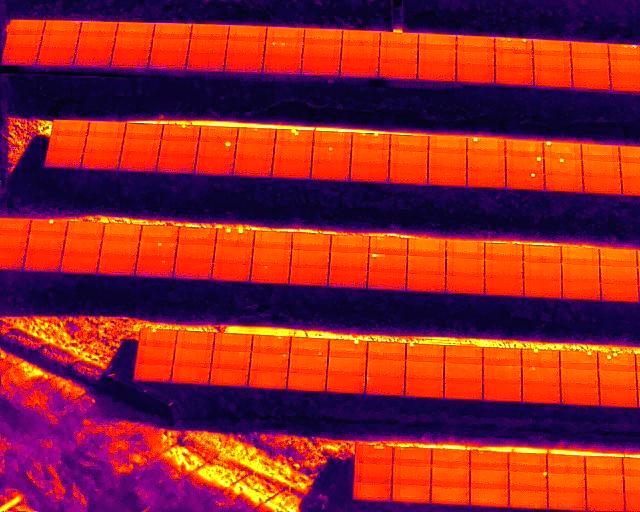Cell: (509, 471, 547, 490), (407, 343, 444, 362), (467, 137, 505, 155), (521, 350, 559, 368), (252, 264, 289, 282), (137, 258, 173, 276), (251, 352, 289, 369), (505, 156, 543, 173), (329, 340, 367, 357), (252, 335, 290, 352), (522, 368, 559, 385), (544, 142, 581, 159), (506, 172, 543, 189), (292, 339, 328, 356), (313, 147, 351, 163), (163, 125, 198, 142), (560, 352, 597, 368), (544, 159, 581, 175), (140, 330, 177, 346), (369, 254, 406, 270), (239, 128, 275, 144), (199, 142, 234, 158), (31, 219, 65, 235)
Cell-Multi: (599, 352, 636, 369), (138, 242, 175, 259), (217, 230, 253, 247), (495, 37, 532, 53), (352, 134, 389, 150), (277, 130, 313, 146), (266, 43, 301, 59), (609, 43, 640, 61)
No-Anomaly: (444, 345, 482, 365), (327, 373, 365, 392), (586, 475, 624, 494), (432, 449, 470, 468), (547, 492, 585, 511), (405, 378, 443, 397), (561, 387, 600, 405), (391, 484, 430, 502), (559, 369, 598, 387), (329, 269, 368, 287), (444, 380, 482, 398), (392, 466, 430, 484), (522, 385, 560, 403), (548, 473, 586, 491), (469, 470, 507, 488), (431, 468, 469, 486), (509, 491, 547, 509), (353, 482, 391, 500), (599, 387, 637, 405), (509, 453, 547, 471), (532, 39, 570, 57), (505, 139, 543, 157), (544, 175, 582, 193), (598, 370, 636, 388), (483, 383, 521, 401), (212, 263, 250, 281), (175, 261, 211, 280), (483, 347, 521, 365), (136, 345, 174, 363), (368, 271, 406, 289), (304, 27, 342, 45), (485, 276, 523, 294), (173, 365, 210, 383), (585, 457, 622, 475), (548, 454, 585, 472), (393, 447, 430, 465), (350, 165, 387, 183), (457, 66, 494, 84), (25, 251, 60, 270), (586, 494, 625, 511), (366, 376, 405, 393), (99, 258, 135, 276), (483, 366, 521, 383), (133, 363, 171, 380), (289, 355, 327, 372), (288, 372, 326, 389), (456, 35, 494, 52), (470, 452, 508, 469), (581, 143, 619, 160), (431, 486, 469, 503), (341, 46, 379, 63), (470, 489, 508, 506), (583, 177, 621, 194), (445, 364, 483, 381), (210, 368, 248, 385), (174, 349, 212, 366), (290, 266, 328, 283), (572, 72, 610, 89), (225, 55, 263, 72), (495, 52, 533, 69), (534, 70, 572, 87), (301, 61, 339, 78), (496, 68, 534, 85), (523, 279, 561, 296), (446, 276, 484, 293), (379, 62, 417, 79), (187, 55, 225, 72), (89, 120, 124, 138), (62, 255, 97, 273), (312, 163, 349, 180), (391, 135, 428, 152), (354, 464, 391, 481), (390, 151, 427, 168), (234, 160, 271, 177), (390, 167, 427, 184), (250, 370, 287, 387), (342, 30, 379, 47), (428, 136, 465, 153), (418, 64, 455, 81), (408, 256, 445, 273), (407, 273, 444, 290), (562, 280, 599, 297), (154, 23, 191, 40), (368, 342, 405, 359), (215, 334, 252, 351), (116, 21, 153, 38), (212, 351, 249, 368), (328, 357, 367, 373), (367, 359, 406, 375), (572, 41, 608, 58), (274, 161, 310, 178), (158, 156, 194, 173), (179, 229, 215, 246), (192, 24, 228, 41), (255, 232, 291, 249), (406, 362, 444, 378), (467, 171, 505, 187), (467, 155, 505, 171), (428, 169, 466, 185), (418, 33, 456, 49), (534, 55, 572, 71), (456, 51, 494, 67), (523, 262, 561, 278), (330, 252, 368, 268), (485, 260, 523, 276), (291, 251, 329, 267), (292, 234, 330, 250), (74, 51, 112, 67), (121, 154, 156, 171), (160, 140, 195, 157), (83, 153, 118, 170), (197, 158, 232, 175), (104, 223, 139, 240), (38, 50, 73, 67), (381, 32, 418, 48), (226, 40, 263, 56), (380, 47, 417, 63), (523, 245, 560, 261), (177, 244, 214, 260), (408, 239, 445, 255), (80, 21, 117, 37), (572, 56, 609, 72), (418, 49, 455, 65), (228, 25, 265, 41), (446, 259, 483, 275), (447, 242, 484, 258), (302, 45, 341, 60), (86, 136, 120, 153), (67, 221, 101, 238), (102, 241, 136, 258), (236, 144, 272, 160), (141, 225, 177, 241), (77, 36, 113, 52), (3, 48, 35, 66), (562, 264, 598, 280), (264, 59, 300, 75), (429, 154, 467, 169), (341, 62, 379, 77), (484, 244, 522, 259), (331, 235, 369, 250), (127, 123, 162, 139), (153, 39, 188, 55), (601, 283, 636, 299), (113, 52, 148, 68), (601, 266, 636, 282), (64, 238, 99, 254), (150, 53, 185, 69), (314, 132, 351, 147), (582, 161, 619, 176), (562, 247, 599, 262), (177, 332, 214, 347), (267, 26, 304, 41), (214, 247, 251, 262), (369, 238, 406, 253), (124, 139, 158, 155), (47, 151, 81, 167), (28, 235, 62, 251), (352, 150, 388, 165), (189, 40, 225, 55), (253, 249, 289, 264), (600, 250, 636, 265), (53, 120, 86, 136), (275, 145, 310, 160), (115, 37, 150, 52), (42, 34, 77, 49), (51, 136, 83, 152), (6, 34, 40, 49), (200, 127, 236, 141), (45, 20, 78, 35), (10, 20, 42, 35)
Unclassified: (355, 445, 392, 463)
